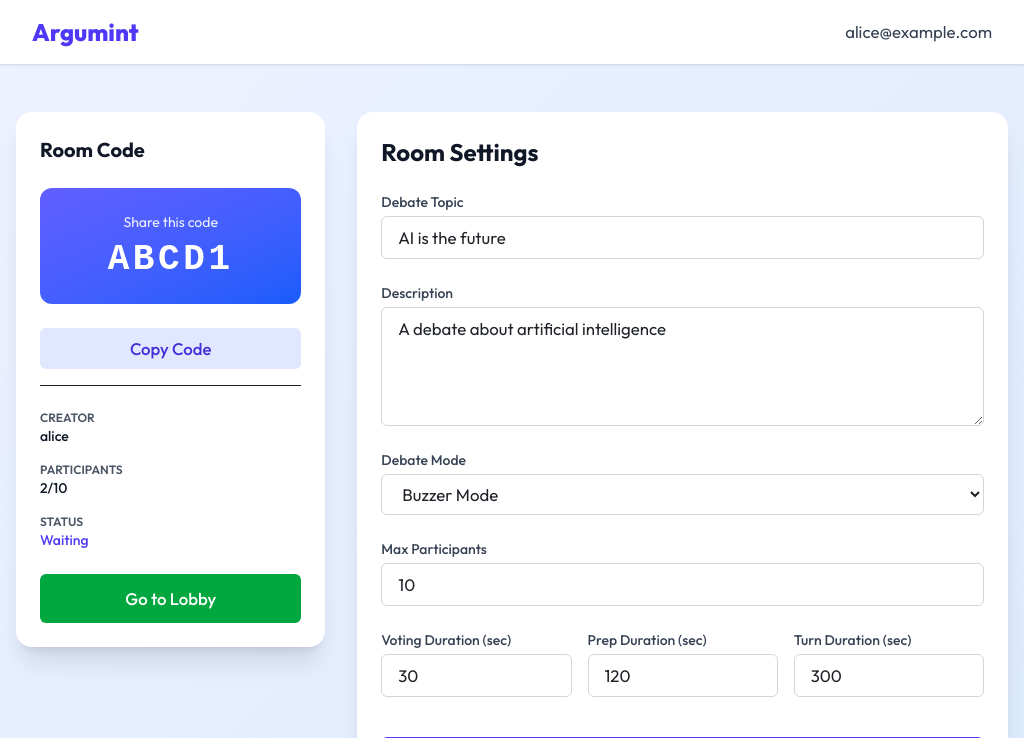
Test: RoomSettings › copy room code › shows 'Copied!' feedback after click
This screenshot has width=1024, height=738.
Click the button "Copy Code" at (171, 349), box 40,328 -> 301,369
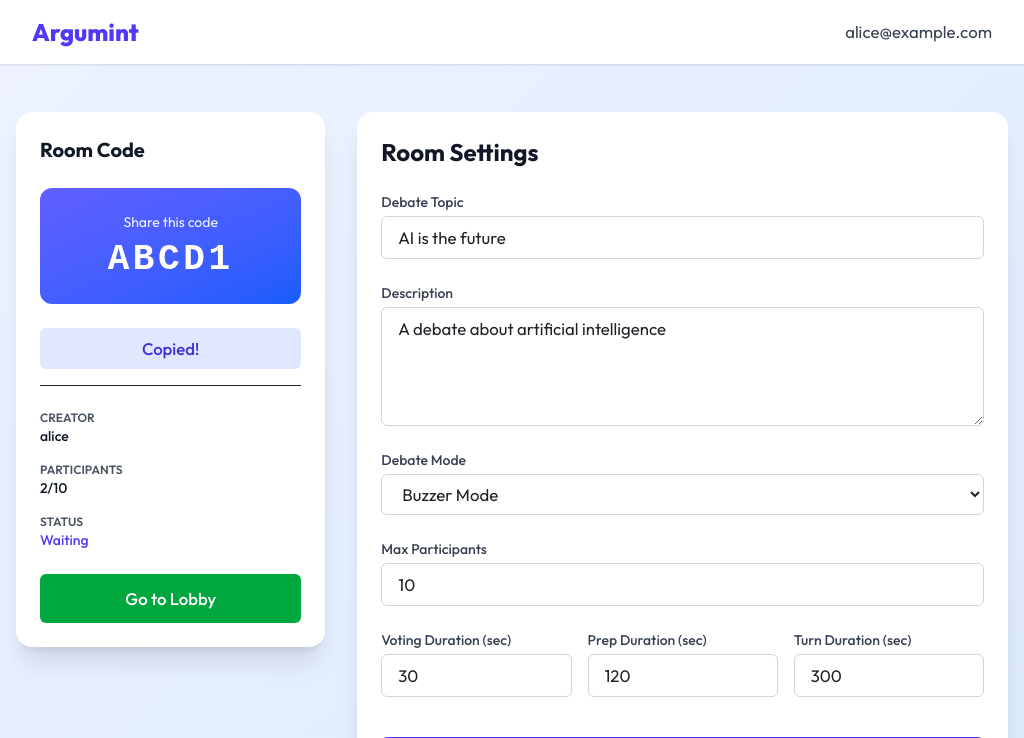
Check: the button "Copied!" is shown, box 40,328 -> 301,369
